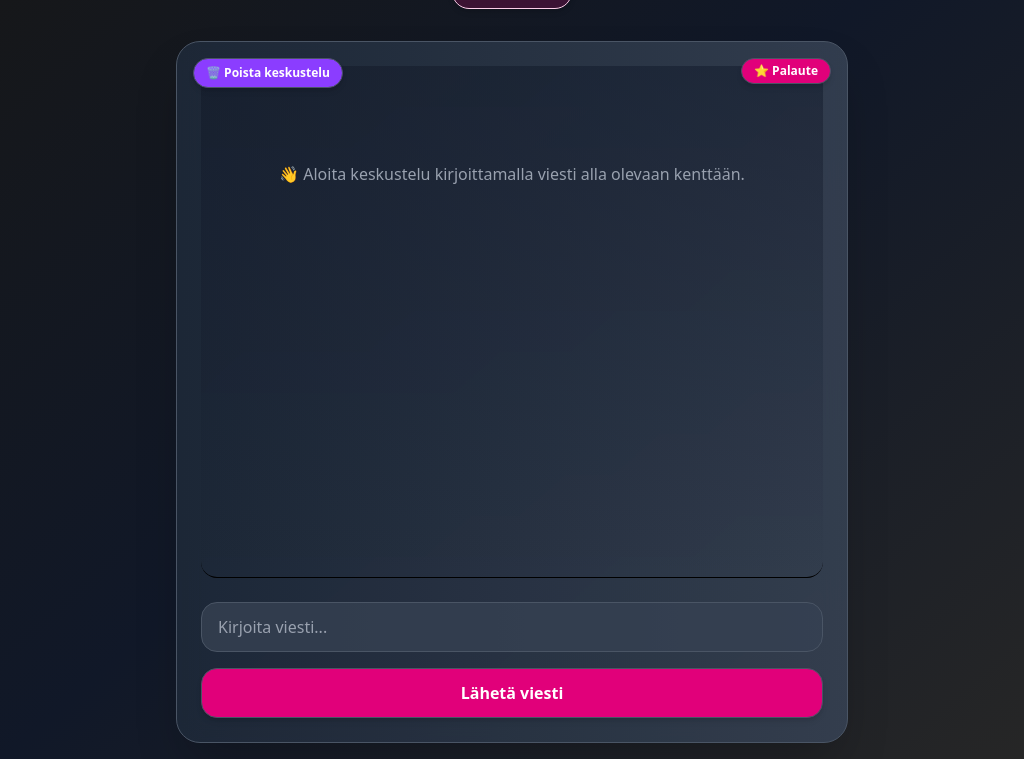
Test: Delete conversation flow › opens delete modal and confirms deletion
(page scrolled)
In the field with placeholder "Kirjoita viesti...": (512, 627) [201, 602, 823, 652], type "Testiviesti"
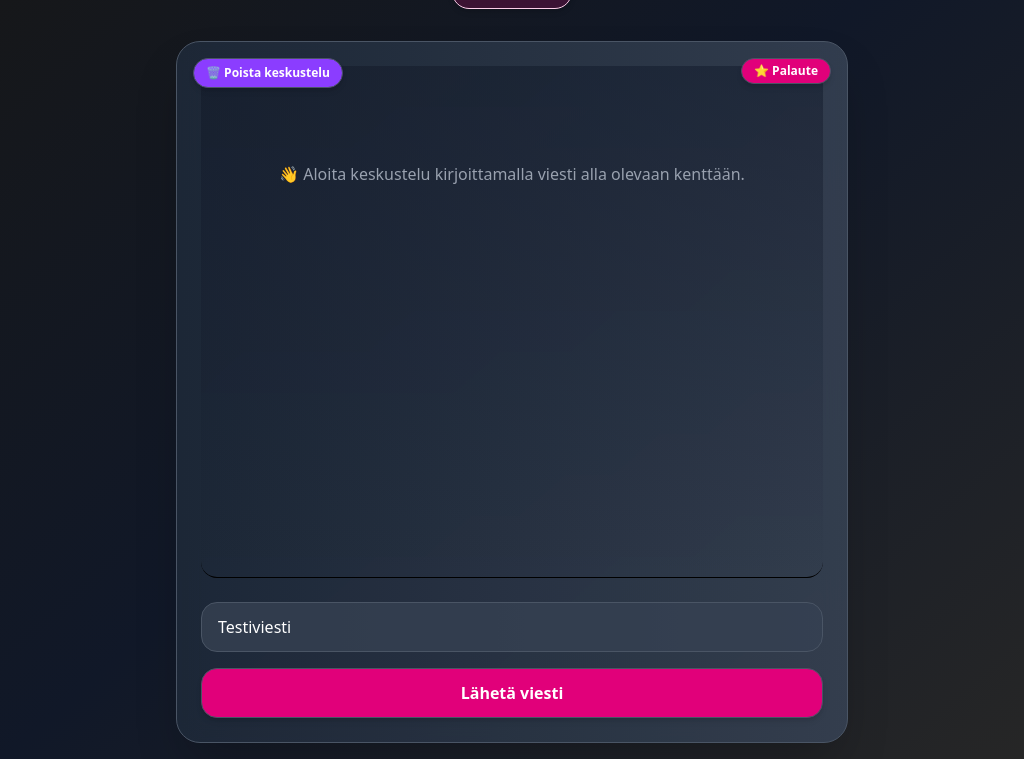
Click the button "Lähetä viesti": (512, 693) [201, 668, 823, 718]
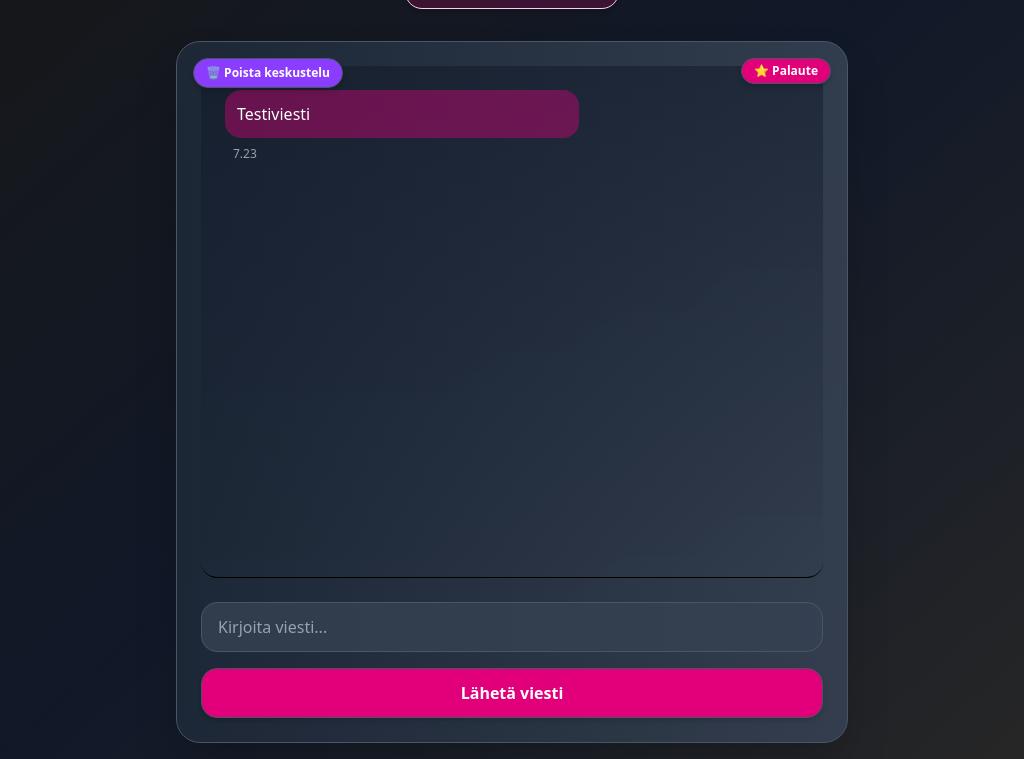
expect the text "Testiviesti" is shown: met, box [225, 90, 579, 138]
# Klikkaa "Poista keskustelu"
Click the button "🗑️ Poista keskustelu": (268, 73) [193, 58, 343, 88]
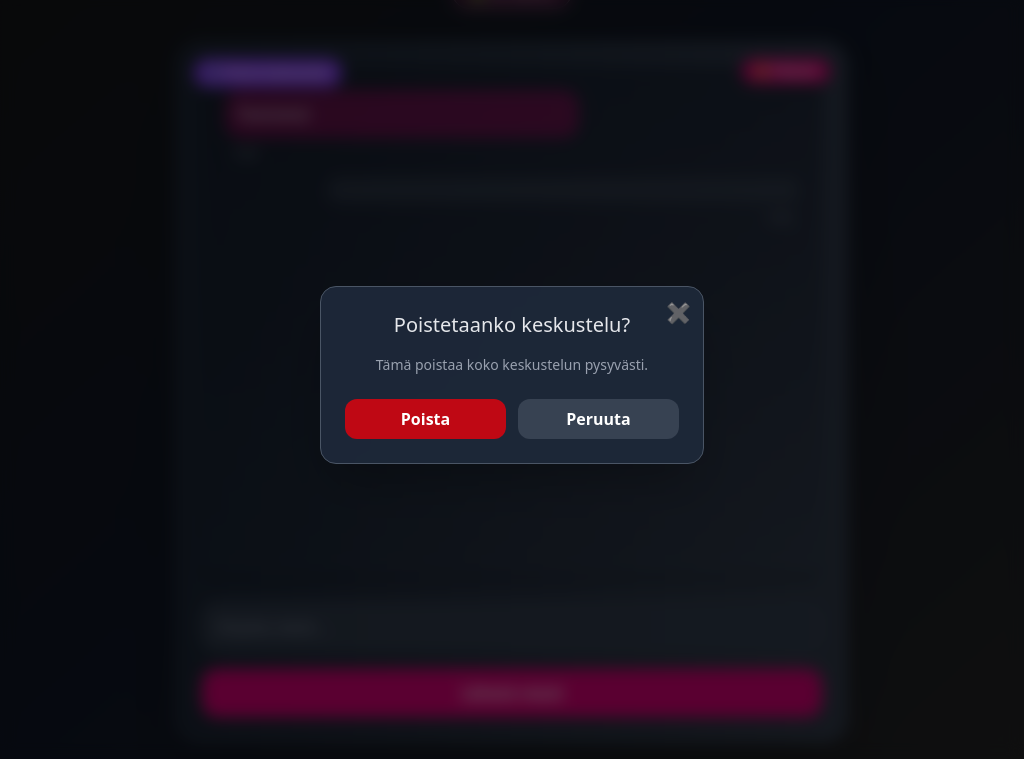
expect the heading "Poistetaanko keskustelu?" is shown: met, box [394, 311, 630, 338]
# Klikataan modaalin Poista
Click the button "Poista": (426, 419) [345, 399, 506, 439]
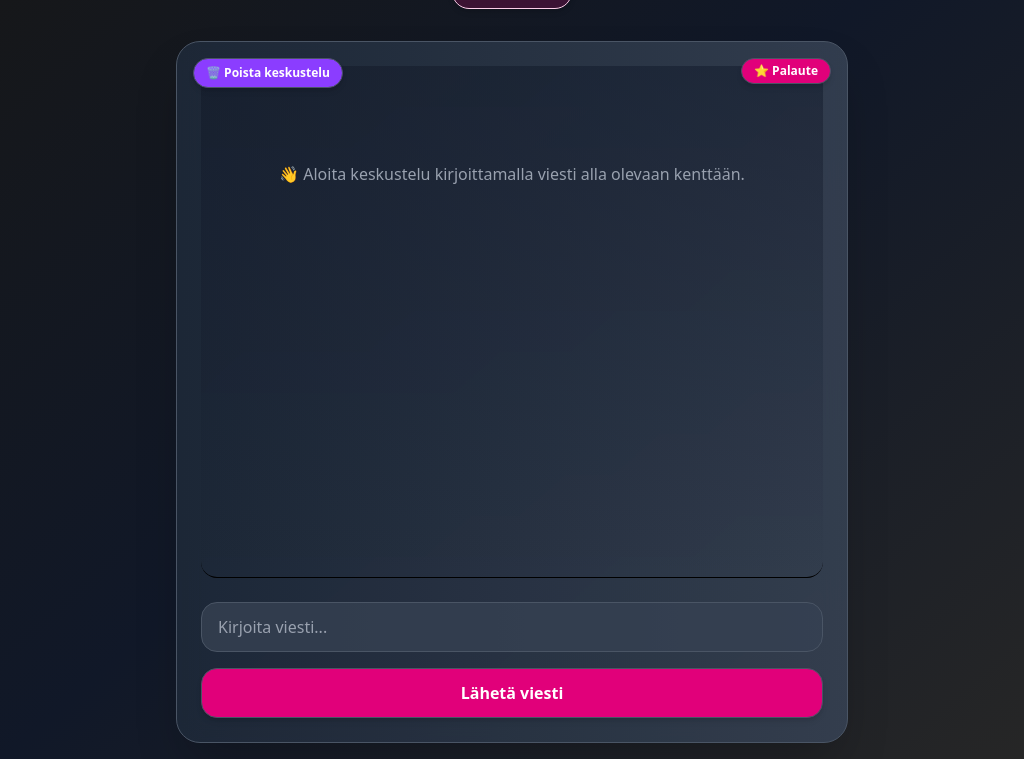
expect the text "Testiviesti" is gone: met
